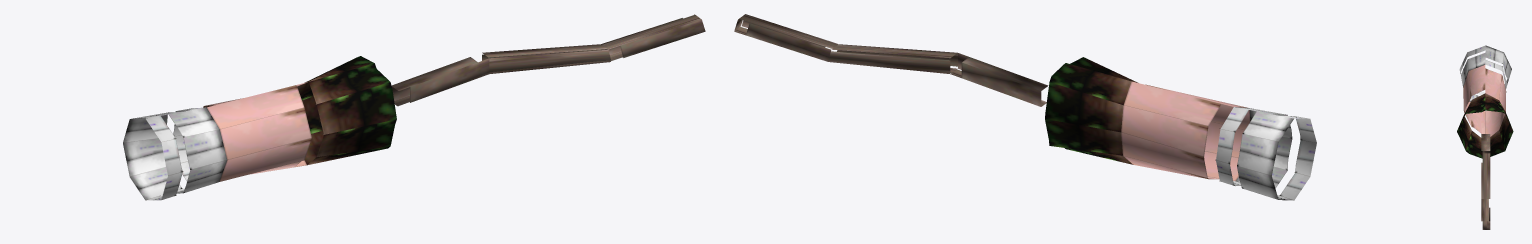
3 renders of one model, left to right at view 1: azimuth 30°, elevation 25°; view 2: azimuth 150°, elevation 25°; view 3: azimuth 270°, elevation 25°, orthographic. The views are drawn at different scales.
Parts seen in each view (by area): view 1: T1L2M008_11; view 2: T1L2M008_11; view 3: T1L2M008_11.
Part boxes in pixels (left/top/right/bottom): T1L2M008_11: left=123, top=14, right=705, bottom=200; T1L2M008_11: left=734, top=14, right=1316, bottom=200; T1L2M008_11: left=1457, top=45, right=1513, bottom=229.
Size of the model in its own units: 1.19 by 0.1543 by 0.1689.
